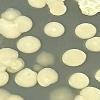white: (13, 65, 38, 89), (60, 47, 88, 68), (37, 68, 60, 89), (73, 21, 98, 40), (16, 36, 42, 54), (67, 72, 91, 91), (42, 21, 66, 39), (12, 15, 36, 33), (0, 7, 24, 22), (36, 51, 57, 68), (48, 86, 73, 100), (5, 57, 25, 74), (73, 0, 100, 12), (83, 35, 100, 54), (47, 3, 69, 17), (77, 4, 99, 18), (0, 45, 19, 61), (77, 85, 100, 97), (0, 18, 15, 35), (25, 0, 48, 11), (1, 29, 22, 40), (0, 69, 10, 88), (0, 86, 13, 100), (72, 95, 100, 100), (5, 93, 25, 100), (32, 63, 44, 74), (46, 0, 67, 6), (0, 59, 8, 74), (94, 66, 100, 84)
